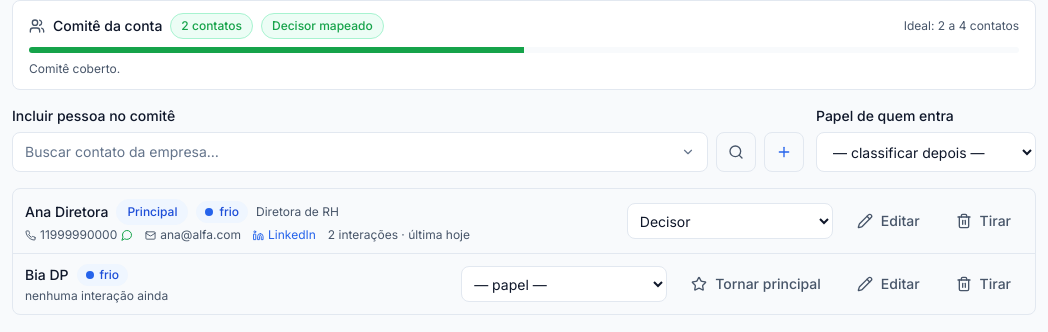
Test: AbaContatos › tirar da oportunidade
Click the button with aria-label "Tirar Bia DP da oportunidade" at (983, 284), box [944,266,1023,302]
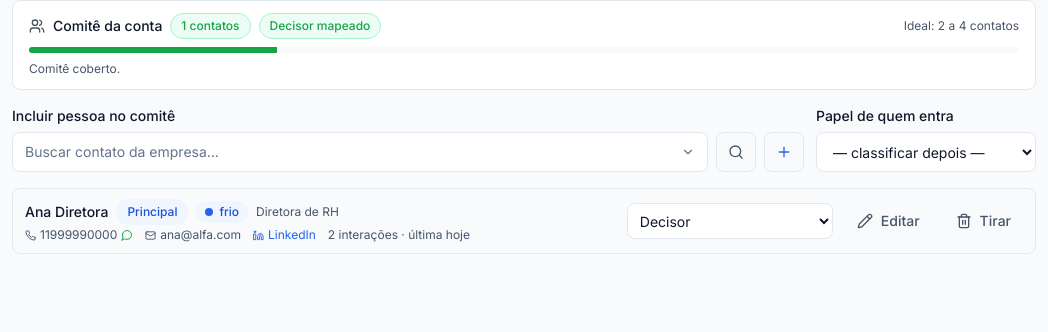
expect the text "Bia DP" is gone: met
